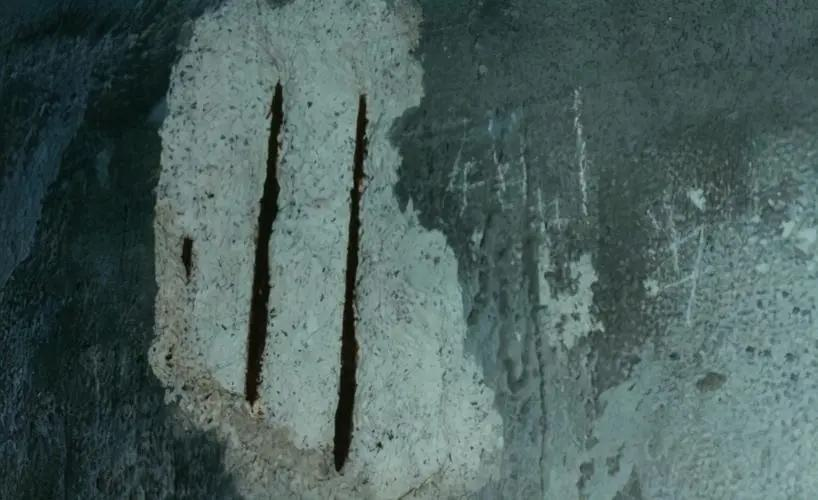Exposed reinforcement: (332, 93, 370, 473), (243, 79, 286, 410), (182, 238, 194, 281)
Spalling: (146, 1, 506, 500)
